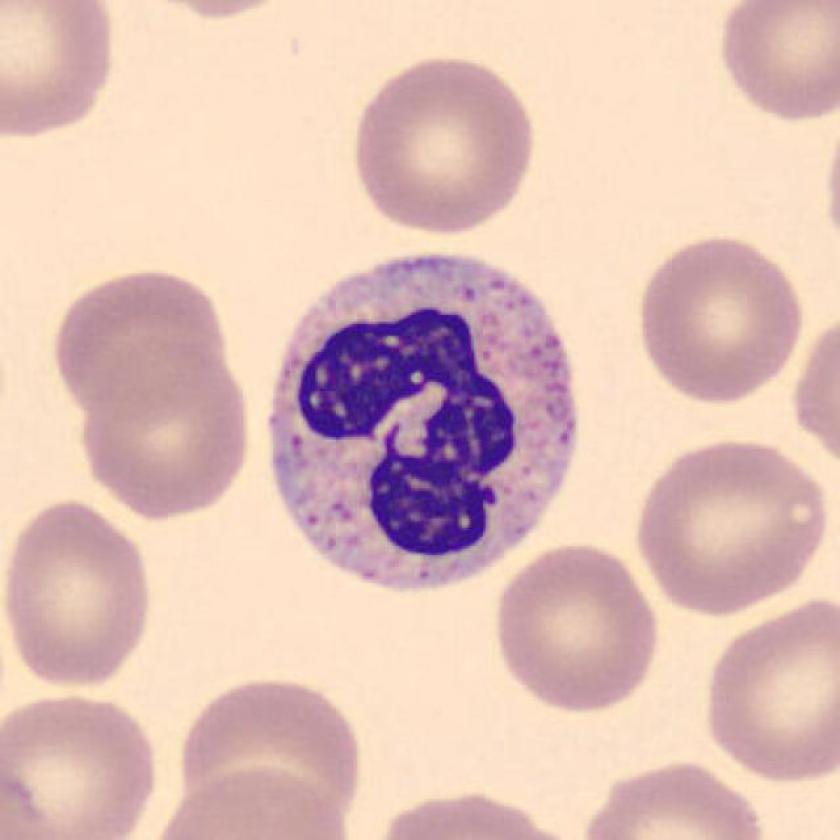neutrophil: (273, 257, 581, 590)
